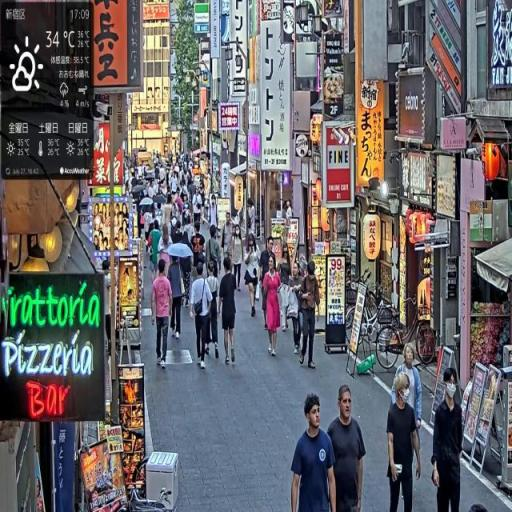person: (291, 392, 340, 512), (386, 369, 423, 512), (327, 384, 368, 512), (431, 371, 464, 512), (191, 259, 215, 372), (153, 257, 176, 372), (299, 261, 323, 371), (262, 254, 284, 358), (219, 260, 238, 371), (167, 256, 186, 339), (243, 235, 261, 321), (207, 261, 222, 354), (232, 224, 245, 293), (149, 221, 163, 284)
